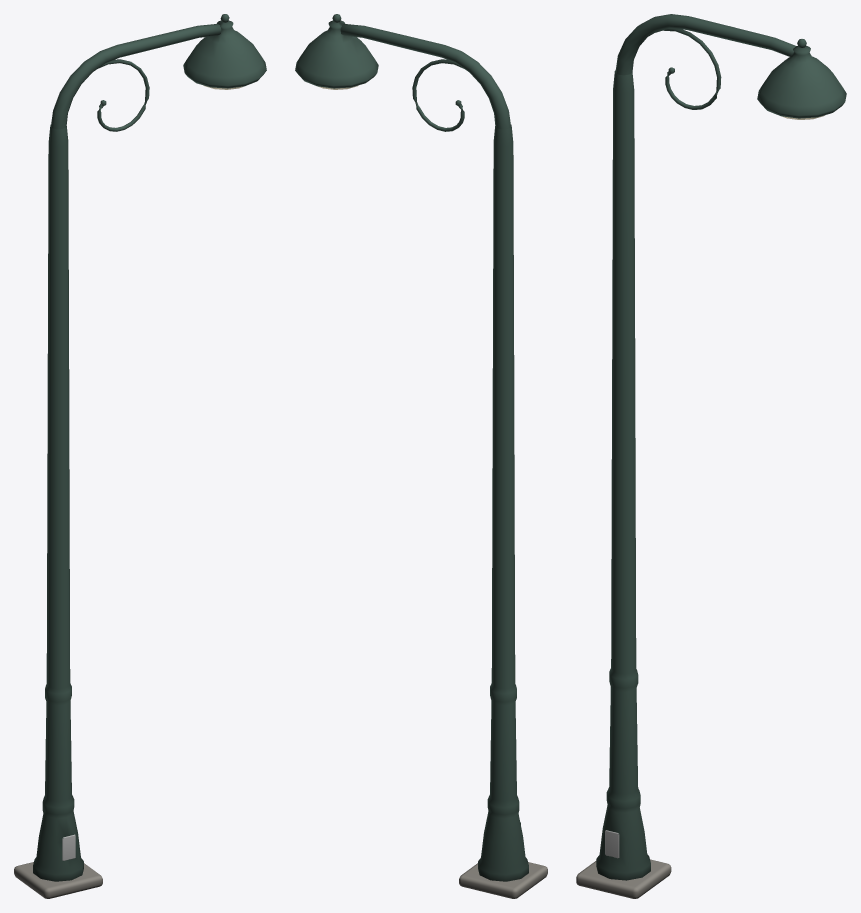
Rendered from StreetLamp.fbx.
The picture shows the model from 3 angles, left to right: view 1: azimuth 30°, elevation 25°; view 2: azimuth 150°, elevation 25°; view 3: azimuth 330°, elevation 25°; orthographic projection. The views are drawn at different scales.
Visible parts, largest first — view 1: StreetLamp; view 2: StreetLamp; view 3: StreetLamp.
Part boxes in pixels (<box>): StreetLamp: <box>14,14,266,898</box>; StreetLamp: <box>295,14,547,898</box>; StreetLamp: <box>576,14,846,898</box>.
Bounding box in the file's own units: 1.74 × 5.93 × 0.55.
